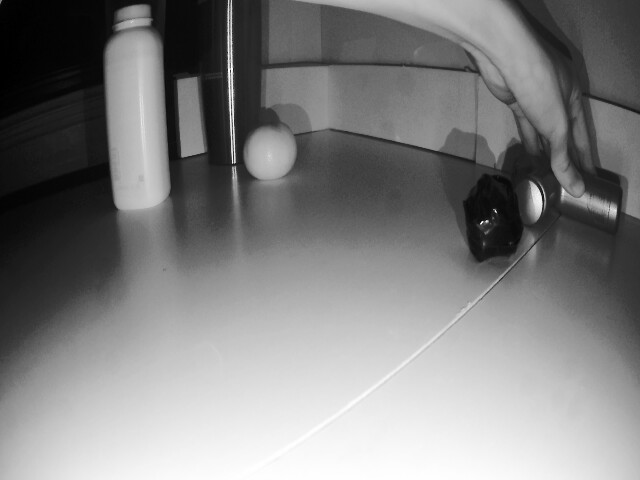black: (459, 171, 521, 259)
